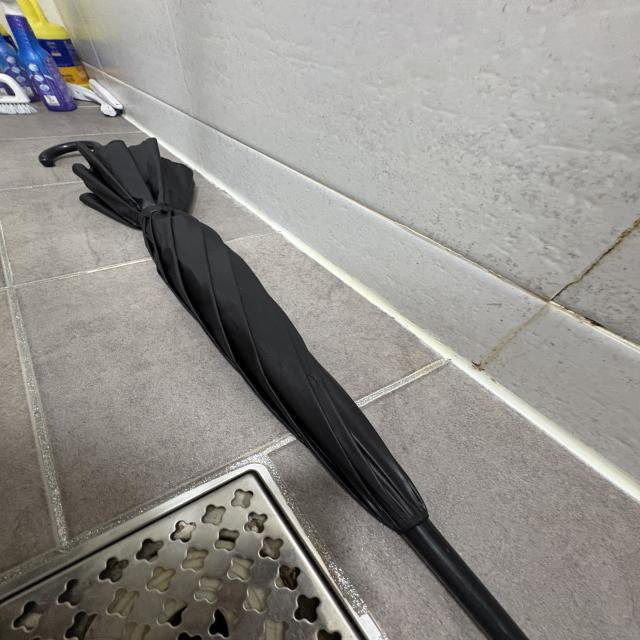umbrella: (40, 139, 528, 640)
